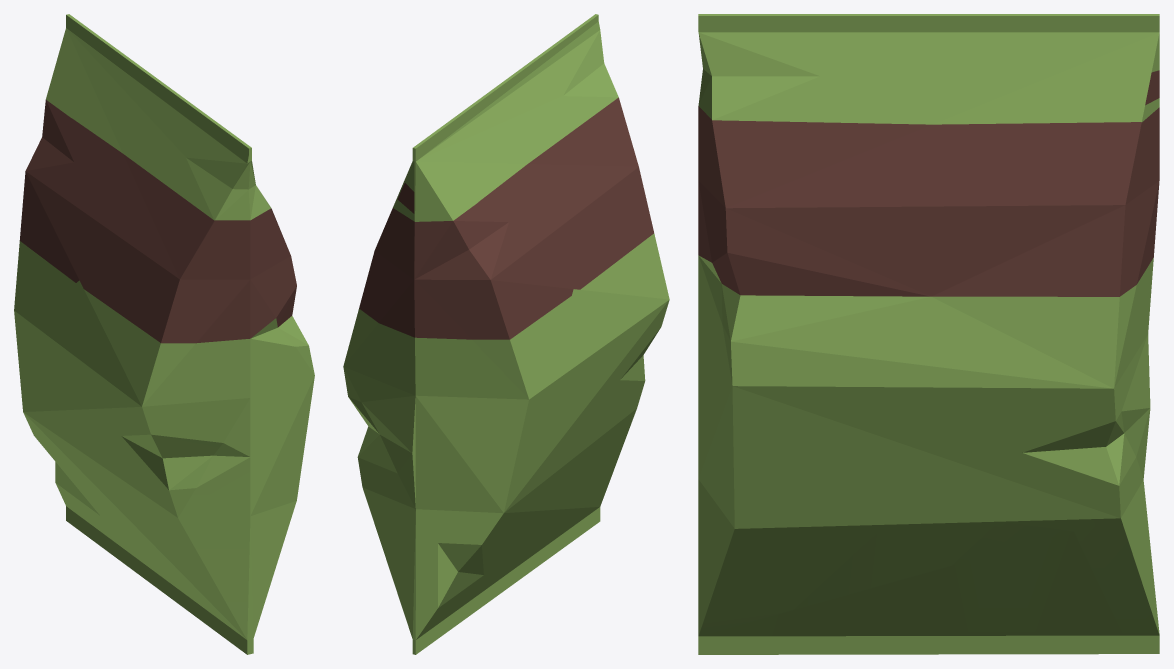
The model's file is chips1.fbx.
3 renders of one model, left to right at view 1: azimuth 30°, elevation 25°; view 2: azimuth 150°, elevation 25°; view 3: azimuth 270°, elevation 25°, orthographic. The views are drawn at different scales.
Visible parts, largest first — view 1: group478861069; view 2: group478861069; view 3: group478861069.
Boxes of the visible parts, box(x1,y1,x2,y2) form: group478861069: box(14, 14, 314, 654); group478861069: box(343, 14, 669, 654); group478861069: box(698, 14, 1159, 654).
Size of the model in its own units: 146 by 393 by 257.
